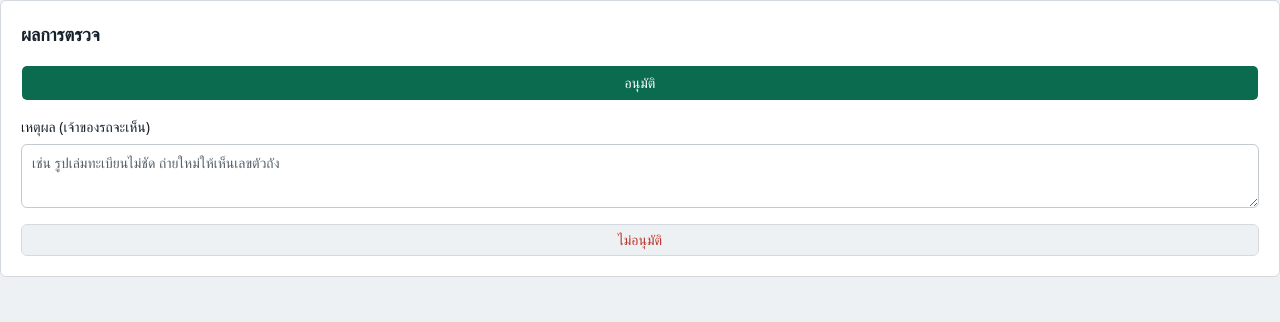
Test: needs a reason before rejecting
Later steps or results of the test are not shown.
Step 1. Click the button "ไม่อนุมัติ" → [640, 240], box [21,224,1259,256]
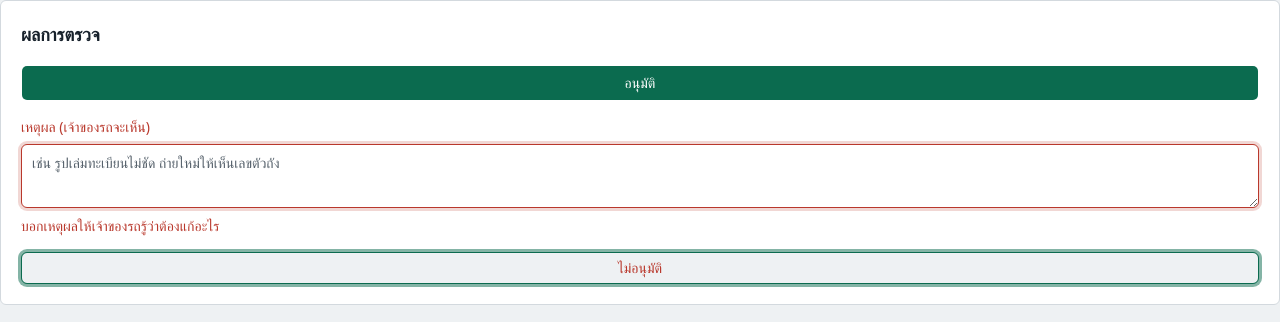
Result: the text "บอกเหตุผลให้เจ้าของรถรู้ว่าต้องแก้อะไร" is shown at [21,216,219,235]
